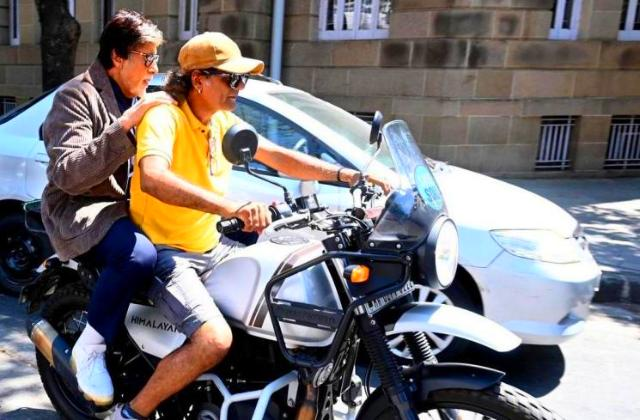motor: (10, 107, 522, 420)
non-helm: (99, 13, 168, 101), (182, 33, 250, 119)
